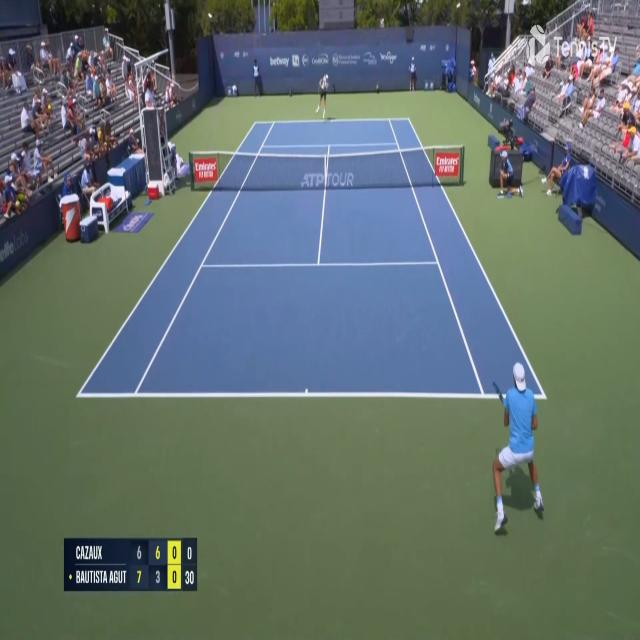tennis-player: (486, 290, 550, 537), (315, 72, 336, 119)
